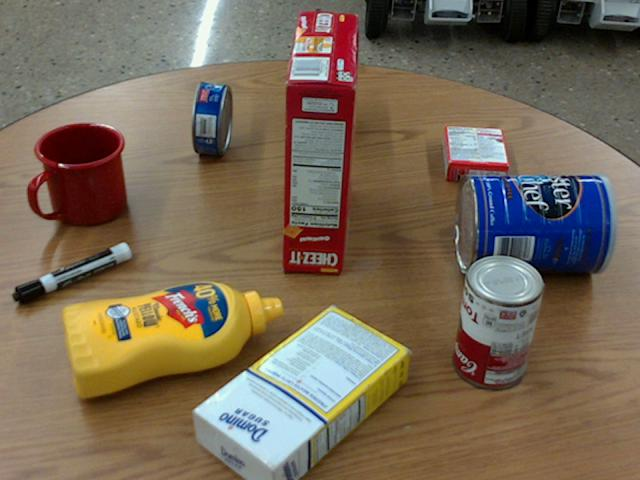cracker_box: (284, 10, 361, 271)
gelatin_box: (442, 124, 509, 182)
large_marker: (13, 241, 130, 303)
master_chef_can: (455, 171, 617, 272)
mug: (31, 123, 126, 226)
mustard_bottle: (61, 279, 282, 398)
potted_meat_can: (307, 50, 357, 146)
sugar_box: (190, 305, 409, 479)
tomato_soup_can: (454, 252, 544, 386)
tuna_fish_can: (190, 81, 232, 154)
